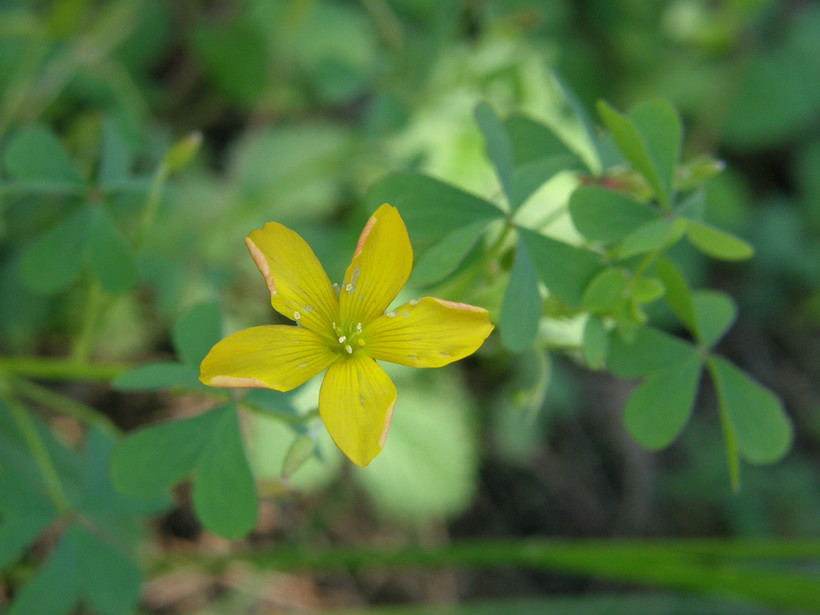oxalis: (418, 105, 813, 483), (98, 309, 301, 568)
